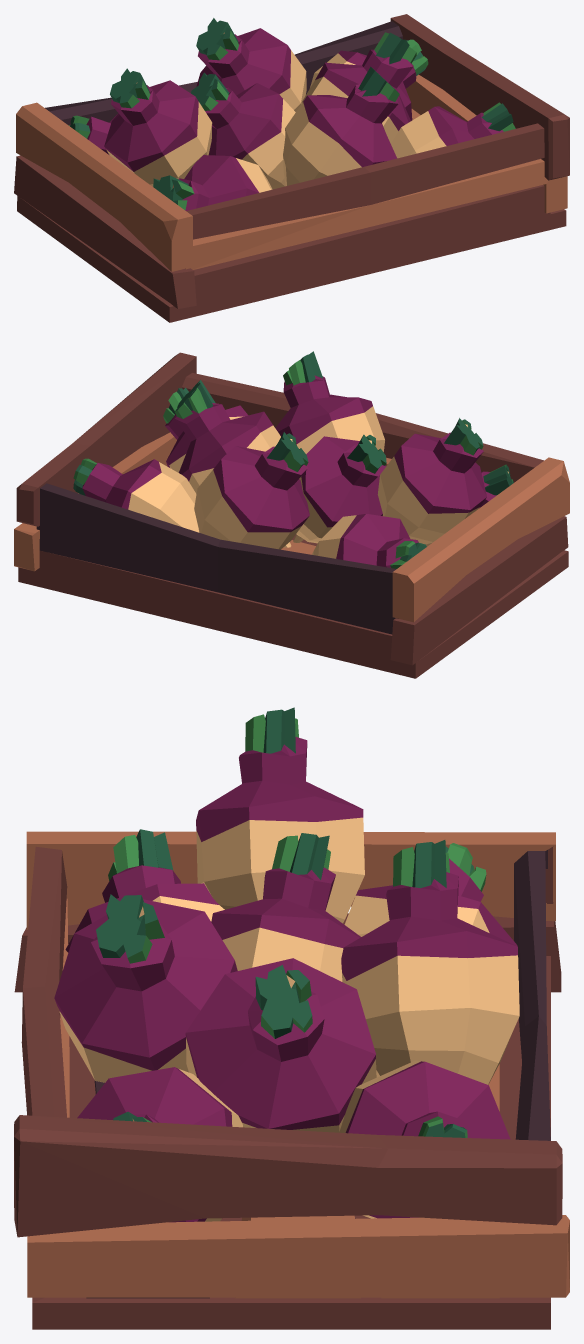
Rendered from Box_Rutabaga.fbx.
3 views of the same model, one above another, from view 1: azimuth 30°, elevation 25°; view 2: azimuth 150°, elevation 25°; view 3: azimuth 270°, elevation 25° (orthographic). The views are drawn at different scales.
Visible parts, largest first — view 1: Box_Rutabaga, Rutabaga_Box_05, Rutabaga_Box_07, Rutabaga_Box_06, Rutabaga_Box_08, Rutabaga_Box_04, Rutabaga_Box_09, Rutabaga_Box_01, Rutabaga_Box_02, Rutabaga_Box_03; view 2: Box_Rutabaga, Rutabaga_Box_08, Rutabaga_Box_07, Rutabaga_Box_06, Rutabaga_Box_05, Rutabaga_Box_02, Rutabaga_Box_09, Rutabaga_Box_03, Rutabaga_Box_01, Rutabaga_Box_04; view 3: Box_Rutabaga, Rutabaga_Box_08, Rutabaga_Box_09, Rutabaga_Box_05, Rutabaga_Box_07, Rutabaga_Box_06, Rutabaga_Box_02, Rutabaga_Box_01, Rutabaga_Box_04, Rutabaga_Box_03.
Part boxes in pixels (x1,y1,x2,y2): Box_Rutabaga: (14, 14, 569, 322); Rutabaga_Box_05: (283, 66, 399, 185); Rutabaga_Box_07: (104, 68, 212, 186); Rutabaga_Box_06: (191, 72, 295, 189); Rutabaga_Box_08: (196, 18, 306, 111); Rutabaga_Box_04: (153, 155, 272, 210); Rutabaga_Box_09: (301, 32, 416, 143); Rutabaga_Box_01: (391, 102, 515, 158); Rutabaga_Box_02: (310, 39, 428, 120); Rutabaga_Box_03: (69, 113, 118, 154); Box_Rutabaga: (14, 352, 569, 678); Rutabaga_Box_08: (194, 432, 309, 549); Rutabaga_Box_07: (377, 418, 486, 544); Rutabaga_Box_06: (293, 434, 386, 543); Rutabaga_Box_05: (275, 351, 384, 453); Rutabaga_Box_02: (73, 458, 198, 532); Rutabaga_Box_09: (174, 380, 291, 547); Rutabaga_Box_03: (312, 513, 426, 568); Rutabaga_Box_01: (163, 387, 248, 472); Rutabaga_Box_04: (426, 464, 513, 546); Box_Rutabaga: (14, 831, 569, 1329); Rutabaga_Box_08: (341, 840, 519, 1084); Rutabaga_Box_09: (185, 958, 376, 1132); Rutabaga_Box_05: (54, 894, 237, 1082); Rutabaga_Box_07: (196, 707, 364, 923); Rutabaga_Box_06: (211, 833, 360, 981); Rutabaga_Box_02: (339, 1060, 510, 1218); Rutabaga_Box_01: (77, 1067, 242, 1222); Rutabaga_Box_04: (65, 829, 224, 952); Rutabaga_Box_03: (344, 843, 517, 945).
Bounding box in the file's own units: 85.89 × 39.26 × 61.35.
